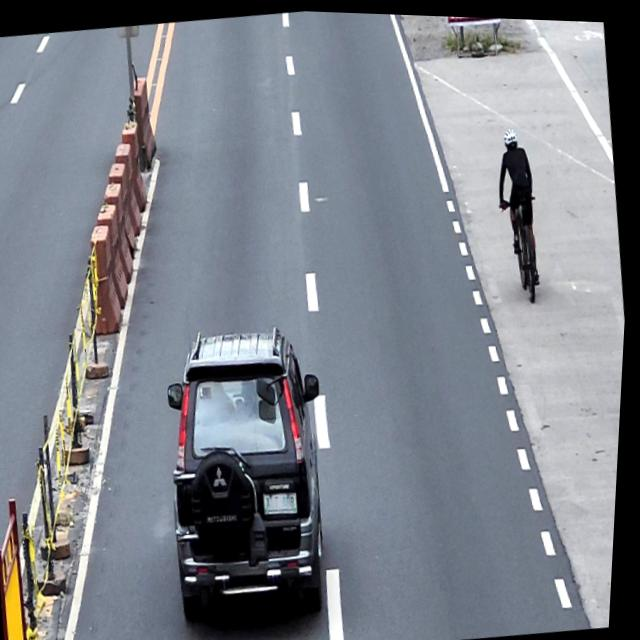Bicycle: (494, 187, 551, 308)
Car: (154, 314, 354, 626)
License-Plate: (266, 488, 303, 514)
